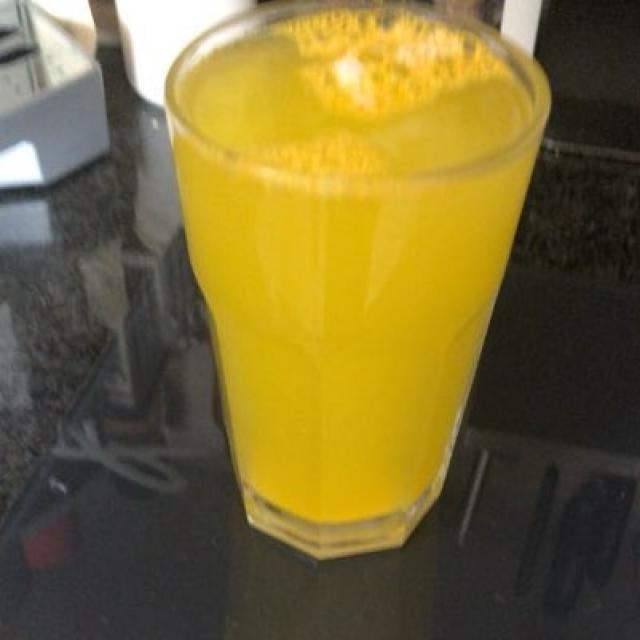water: (180, 25, 537, 540)
